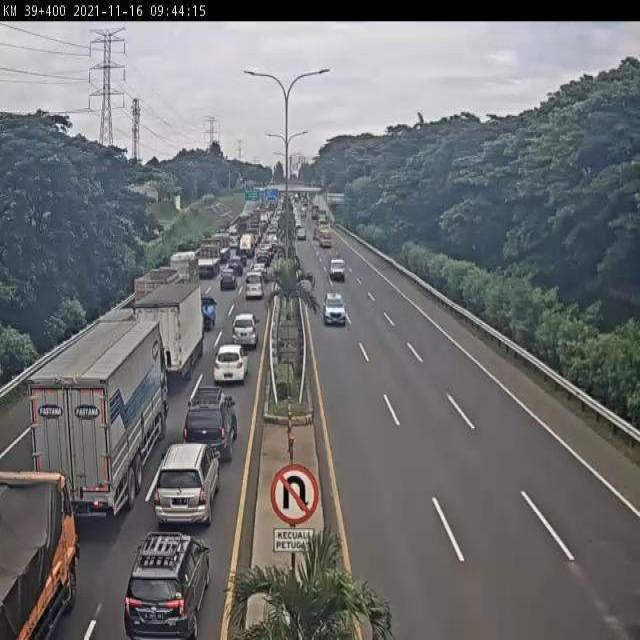car: (123, 520, 219, 640), (158, 432, 222, 533), (186, 380, 238, 468), (213, 344, 247, 387), (233, 314, 261, 354), (322, 291, 350, 327), (199, 297, 221, 332), (324, 255, 348, 283), (244, 271, 265, 303), (221, 269, 238, 291)
truck: (14, 311, 177, 513), (0, 461, 89, 639), (139, 282, 203, 378)
